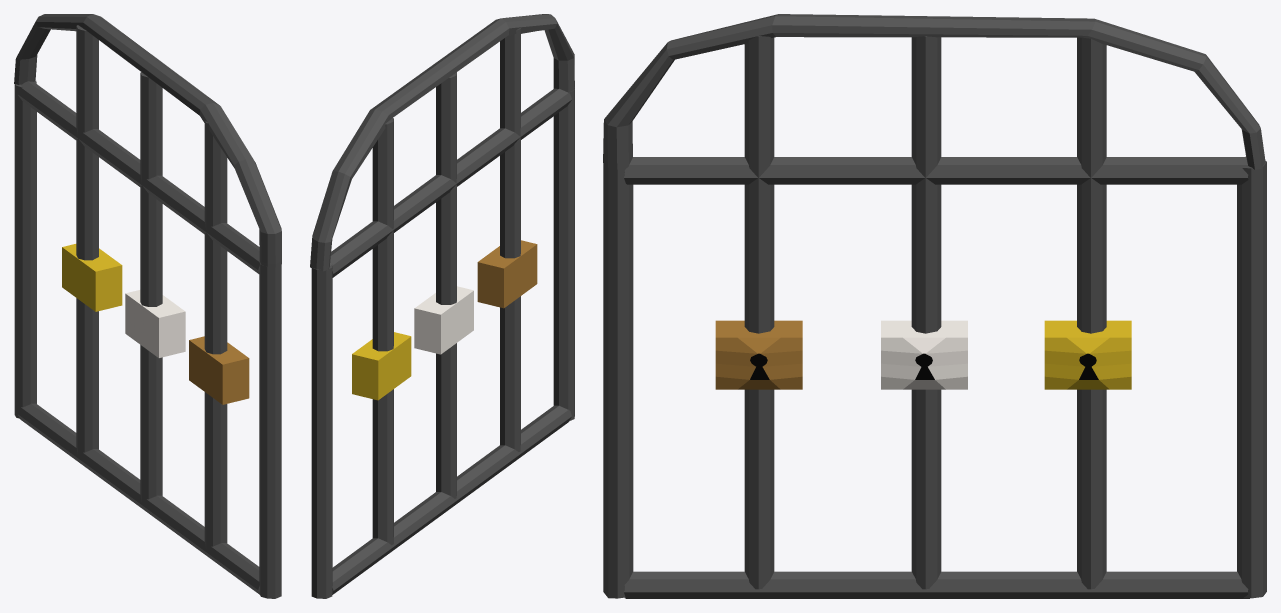
The model's file is Gate.glb.
3 views of the same model, side by side, from view 1: azimuth 30°, elevation 25°; view 2: azimuth 150°, elevation 25°; view 3: azimuth 270°, elevation 25° (orthographic). The views are drawn at different scales.
Parts seen in each view (by area): view 1: Cube.005, Cube.009, Cube.010, Cube.003; view 2: Cube.005, Cube.003, Cube.009, Cube.010; view 3: Cube.005, Cube.003, Cube.010, Cube.009.
Boxes of the visible parts, x1,y1,x2,y2 form: Cube.005: [14, 14, 281, 598]; Cube.009: [125, 290, 185, 357]; Cube.010: [62, 244, 122, 311]; Cube.003: [189, 336, 249, 404]; Cube.005: [310, 14, 574, 598]; Cube.003: [477, 240, 537, 308]; Cube.009: [414, 286, 473, 354]; Cube.010: [352, 332, 411, 400]; Cube.005: [603, 14, 1266, 598]; Cube.003: [715, 320, 802, 389]; Cube.010: [1044, 320, 1131, 389]; Cube.009: [881, 320, 967, 389].
Size of the model in its own units: 0.6629 by 7.93 by 8.16.
